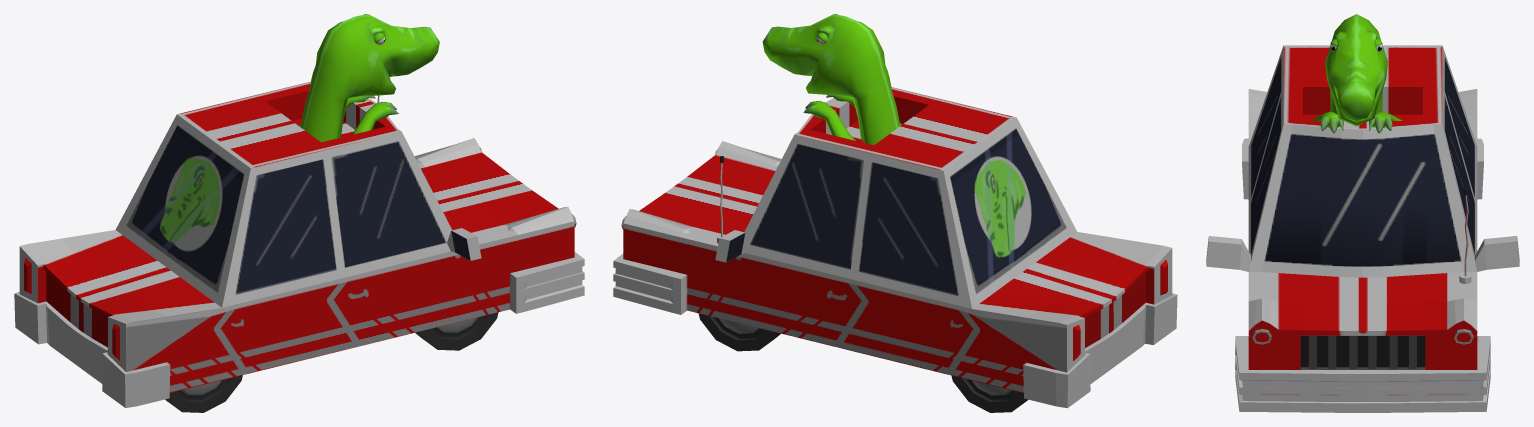
The model's file is kart3.fbx.
3 renders of one model, left to right at view 1: azimuth 30°, elevation 25°; view 2: azimuth 150°, elevation 25°; view 3: azimuth 270°, elevation 25°, orthographic. The views are drawn at different scales.
Parts seen in each view (by area): view 1: base_carro, DINO; view 2: base_carro, DINO; view 3: base_carro, DINO.
Boxes of the visible parts, x1,y1,x2,y2 form: base_carro: [14, 81, 584, 412]; DINO: [299, 14, 439, 142]; base_carro: [613, 87, 1177, 412]; DINO: [762, 14, 901, 145]; base_carro: [1206, 45, 1519, 412]; DINO: [1310, 14, 1402, 133].
Size of the model in its own units: 269 by 177 by 148.
